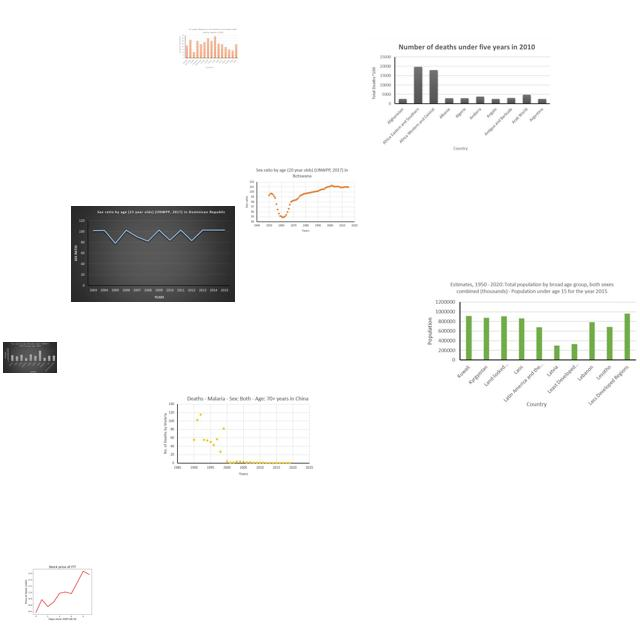Graph: (424, 278, 640, 408), (368, 38, 555, 158), (71, 206, 235, 302), (162, 391, 314, 479), (242, 165, 359, 236), (22, 562, 101, 621), (178, 27, 239, 69), (3, 342, 57, 373)
